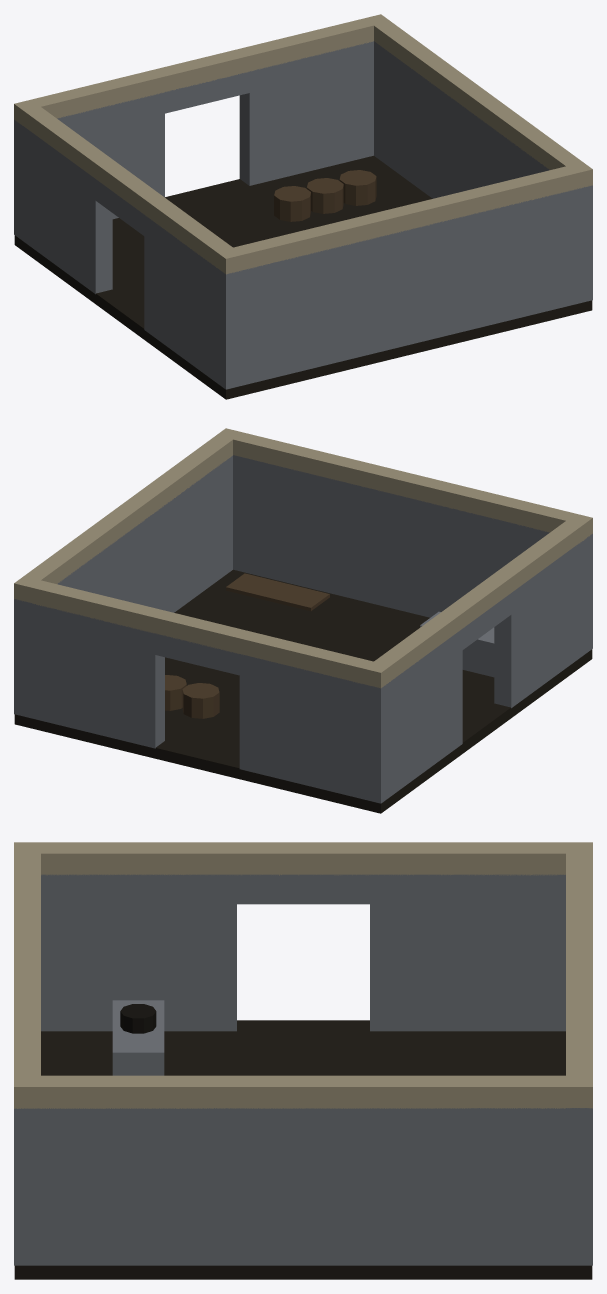
File: KitchenRoom.fbx
3 views of the same model, one above another, from view 1: azimuth 30°, elevation 25°; view 2: azimuth 150°, elevation 25°; view 3: azimuth 270°, elevation 25° (orthographic). The views are drawn at different scales.
Visible parts, largest first — view 1: KitchenRoom; view 2: KitchenRoom; view 3: KitchenRoom.
Boxes of the visible parts, x1=… form: KitchenRoom: x1=14, y1=14, x2=592, y2=399; KitchenRoom: x1=14, y1=428, x2=592, y2=813; KitchenRoom: x1=14, y1=842, x2=592, y2=1279.
Bounding box in the file's own units: 1122 × 412 × 1122.
5 materials, 5 textured.
